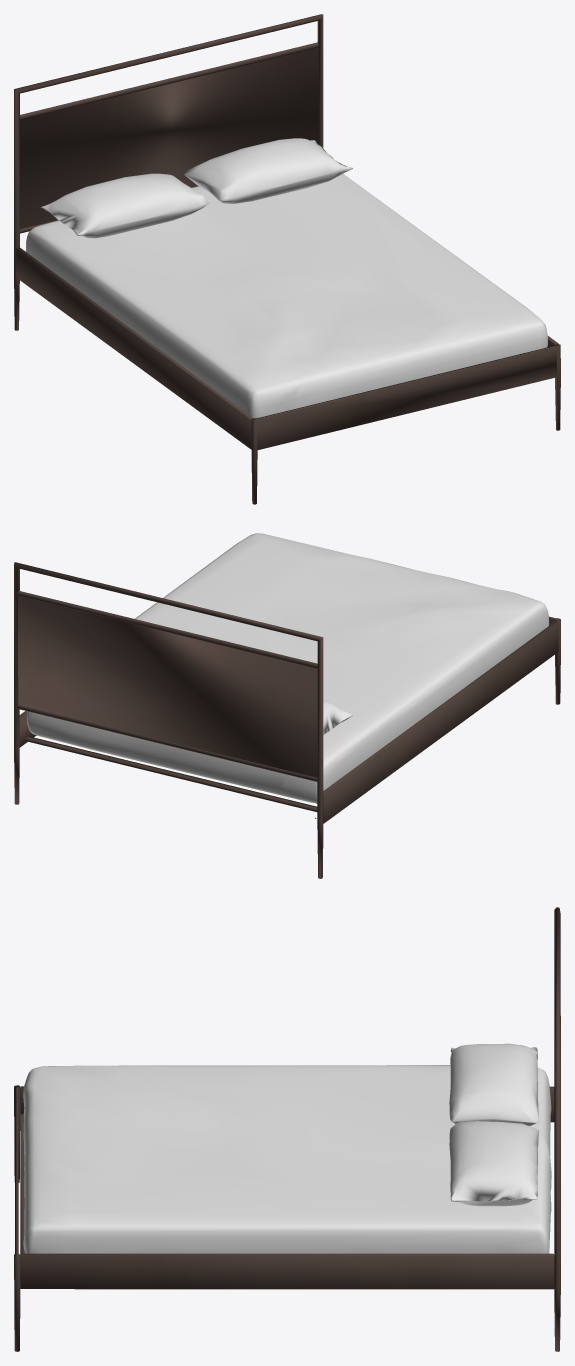
Rendered from abo-B07B51H792.glb.
3 renders of one model, top to bottom at view 1: azimuth 30°, elevation 25°; view 2: azimuth 150°, elevation 25°; view 3: azimuth 270°, elevation 25°, orthographic. The views are drawn at different scales.
Parts seen in each view (by area): view 1: RootNode; view 2: RootNode; view 3: RootNode.
Part boxes in pixels (box(x1,y1,x2,y2)): RootNode: box(14, 14, 560, 504); RootNode: box(14, 533, 560, 878); RootNode: box(14, 907, 560, 1351).
Size of the model in its own units: 1.57 by 1.17 by 2.12.
1 material, 1 textured.
